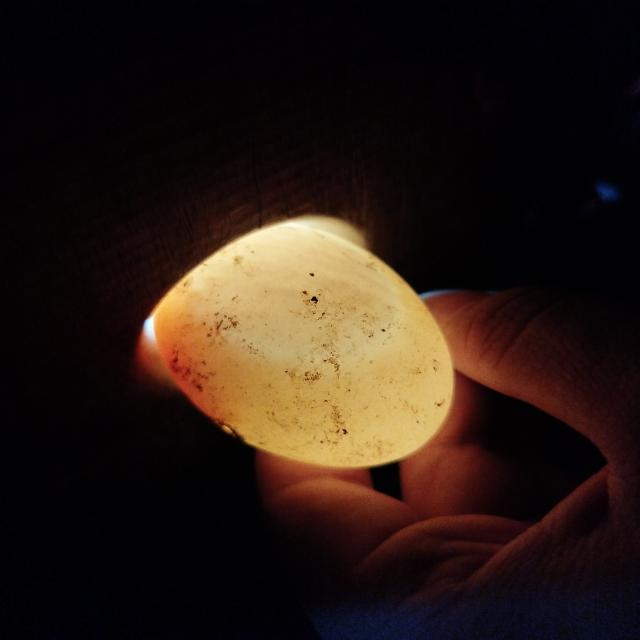Camara de Ar: (188, 227, 403, 365)
